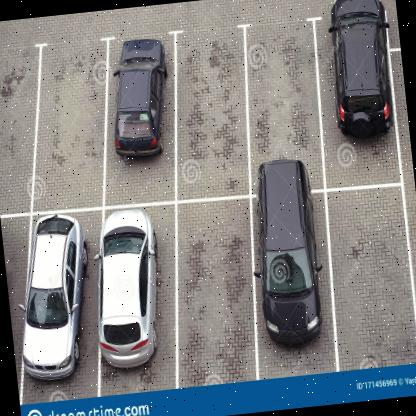Car: (258, 158, 332, 353), (19, 212, 91, 382), (97, 209, 168, 376), (327, 0, 397, 142), (112, 34, 174, 158)
Empty: (331, 188, 416, 364), (178, 204, 260, 379), (41, 43, 117, 200), (174, 31, 247, 188), (249, 24, 316, 158), (0, 48, 35, 200)
